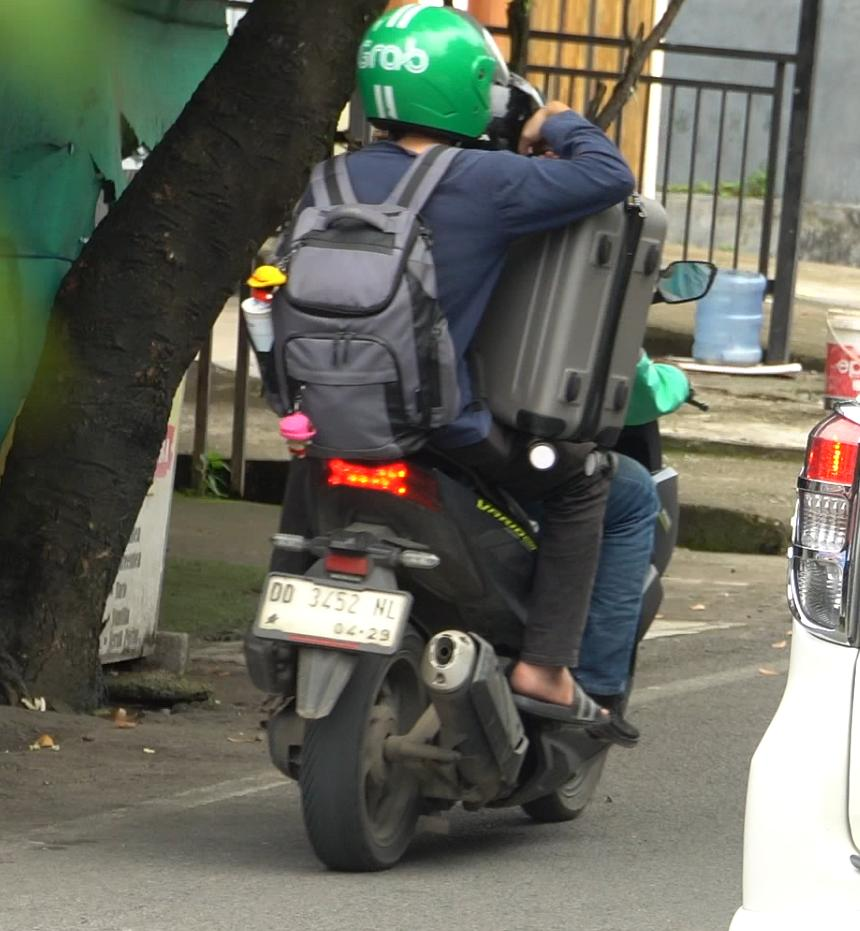number-plate: (241, 569, 413, 654)
